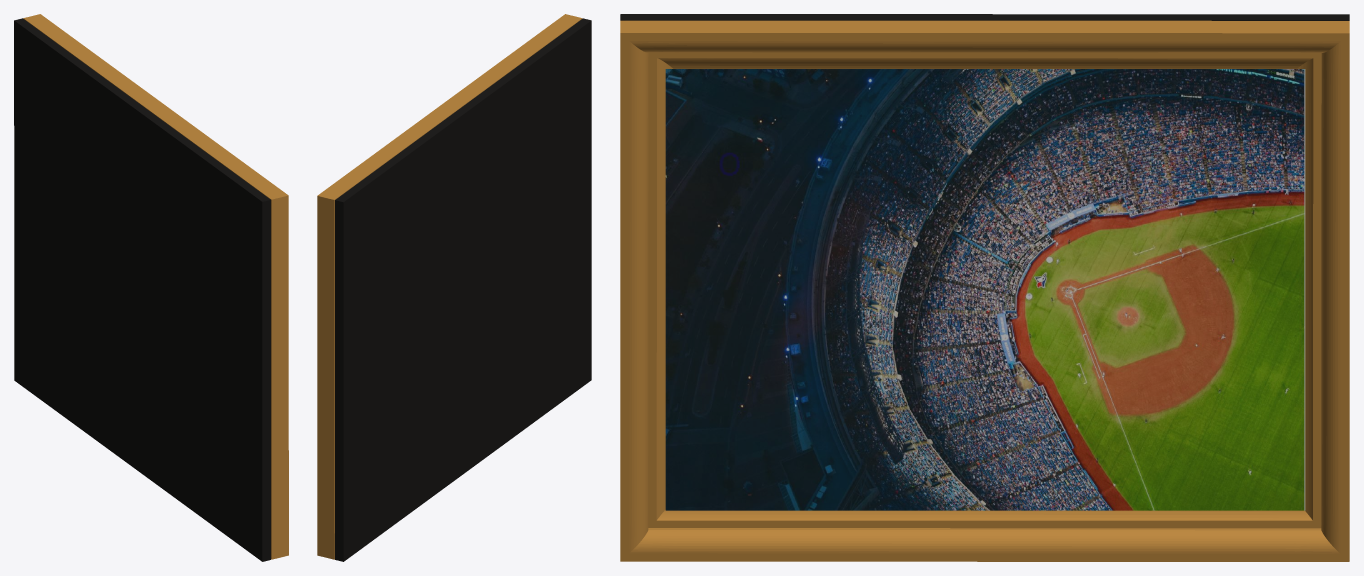
3 renders of one model, left to right at view 1: azimuth 30°, elevation 25°; view 2: azimuth 150°, elevation 25°; view 3: azimuth 270°, elevation 25°, orthographic. The views are drawn at different scales.
Visible parts, largest first — view 1: frame.001_3.001, back panel.001_2.001; view 2: frame.001_3.001, back panel.001_2.001; view 3: frame.001_3.001, back panel.001_2.001.
Boxes of the visible parts, x1=… form: frame.001_3.001: x1=14, y1=18, x2=270, y2=561; back panel.001_2.001: x1=23, y1=14, x2=288, y2=559; frame.001_3.001: x1=335, y1=18, x2=591, y2=561; back panel.001_2.001: x1=317, y1=14, x2=582, y2=559; frame.001_3.001: x1=620, y1=14, x2=1349, y2=510; back panel.001_2.001: x1=620, y1=20, x2=1349, y2=561.
Bounding box in the file's own units: 1.05 × 13.7 × 17.12.
Materials: 3 (1 with a texture image).
